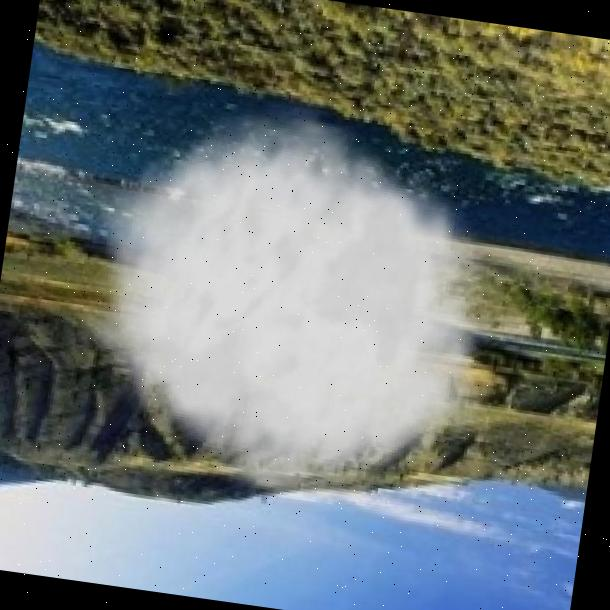smoke: (57, 70, 536, 536)
